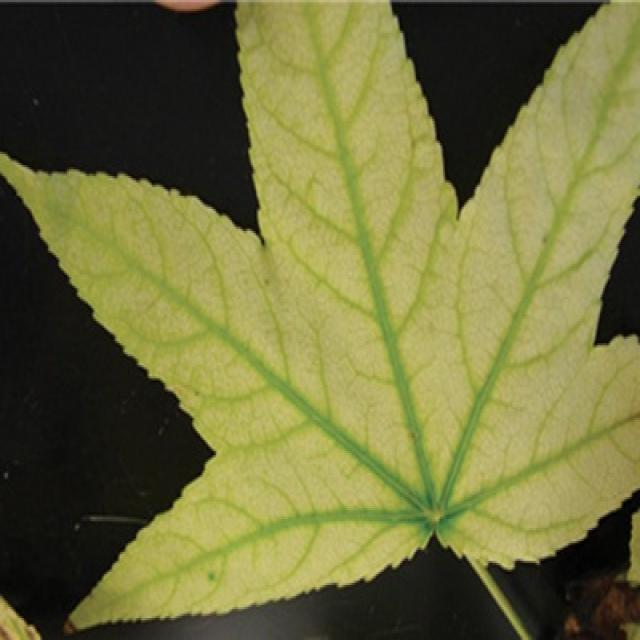Chlorosis: (3, 13, 640, 575)
